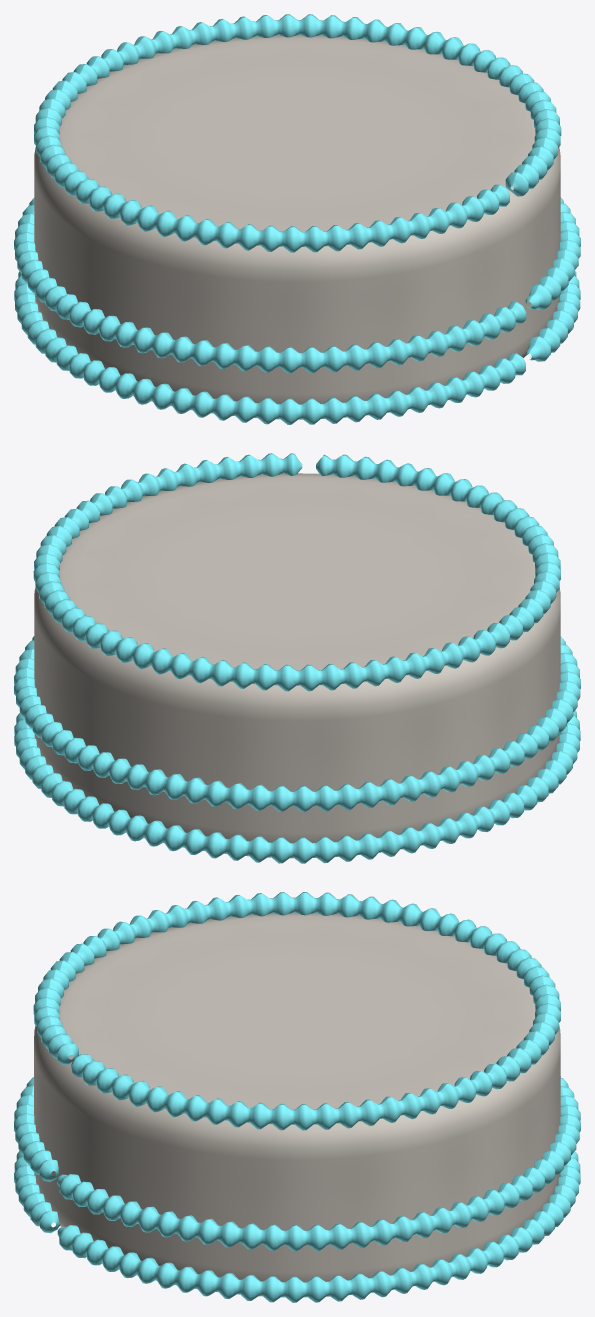
The model's file is cake.glb.
The picture shows the model from 3 angles, top to bottom: view 1: azimuth 30°, elevation 25°; view 2: azimuth 150°, elevation 25°; view 3: azimuth 270°, elevation 25°; orthographic projection.
Bounding box in the file's own units: 0.2585 × 0.0984 × 0.2584.
